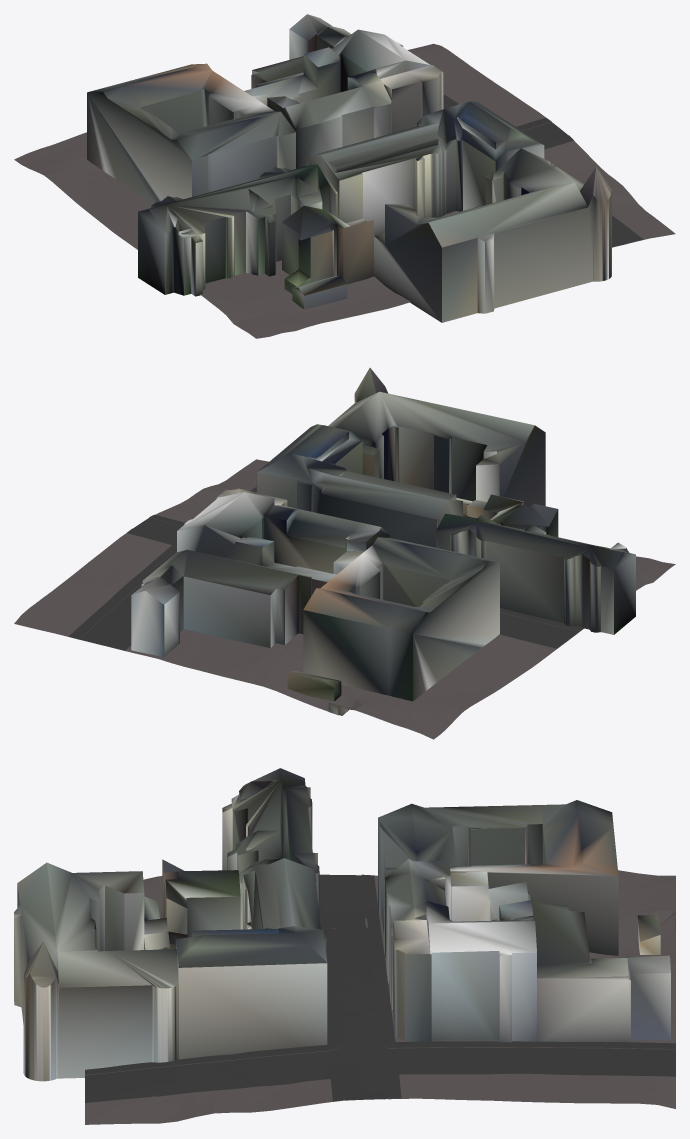
The picture shows the model from 3 angles, top to bottom: view 1: azimuth 30°, elevation 25°; view 2: azimuth 150°, elevation 25°; view 3: azimuth 270°, elevation 25°; orthographic projection. The views are drawn at different scales.
Visible parts, largest first — view 1: c_p01_m03; view 2: c_p01_m03; view 3: c_p01_m03.
Boxes of the visible parts, x1,y1,x2,y2 form: c_p01_m03: (14, 14, 675, 338); c_p01_m03: (14, 368, 675, 739); c_p01_m03: (14, 768, 675, 1124).
Size of the model in its own units: 137 by 31.62 by 143.
